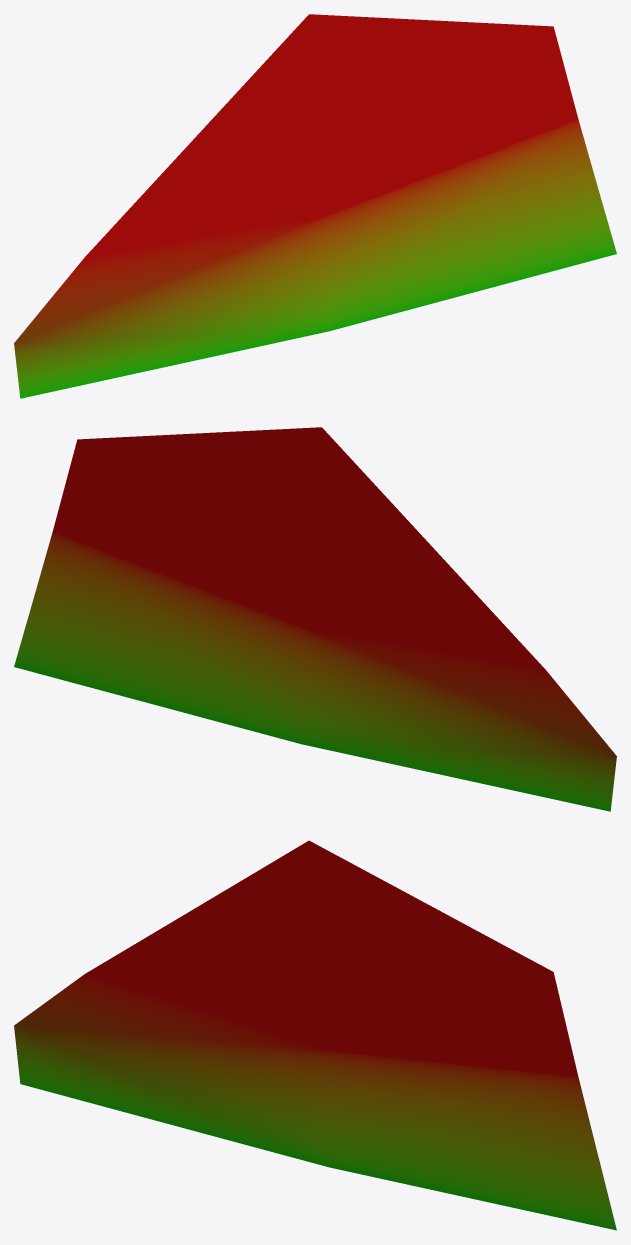
The model's file is Wild Grass_LOD4_Var8_vdilbaiia.fbx.
3 views of the same model, one above another, from view 1: azimuth 30°, elevation 25°; view 2: azimuth 150°, elevation 25°; view 3: azimuth 330°, elevation 25° (orthographic).
Visible parts, largest first — view 1: _9ao6_Var8_LOD4; view 2: _9ao6_Var8_LOD4; view 3: _9ao6_Var8_LOD4.
Boxes of the visible parts, <box> form: _9ao6_Var8_LOD4: <box>14,14,616,398</box>; _9ao6_Var8_LOD4: <box>14,427,616,811</box>; _9ao6_Var8_LOD4: <box>14,840,616,1230</box>.
Size of the model in its own units: 131 by 66.72 by 7.95e-06.
